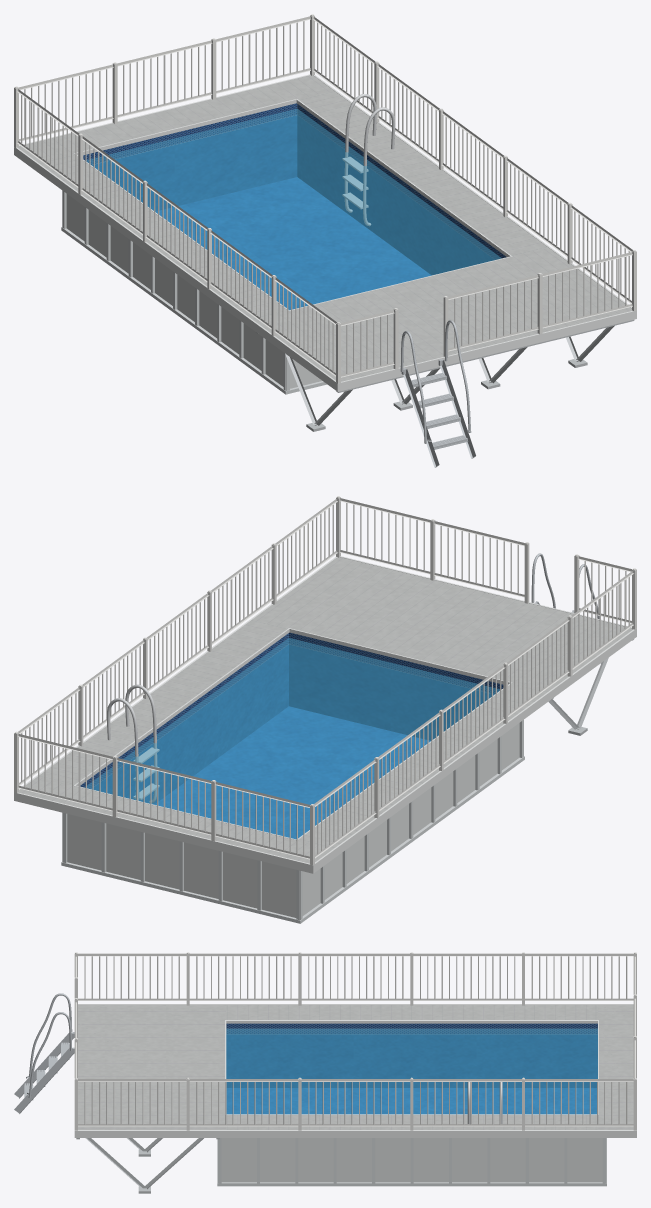
File: kayak-pool-12x20-white-end-ag-fence.07ea84ad62.glb
3 renders of one model, top to bottom at view 1: azimuth 30°, elevation 25°; view 2: azimuth 150°, elevation 25°; view 3: azimuth 270°, elevation 25°, orthographic. The views are drawn at different scales.
Visible parts, largest first — view 1: water, deck, fence, liner_wall, liner_floor, fascia, wall, upright, ladder, stud, steel; view 2: deck, water, fence, liner_wall, wall, liner_floor, fascia, upright, steel, stud; view 3: deck, water, liner_wall, fence, wall, liner_floor, fascia, upright, ladder, stud.
Part boxes in pixels (box(x1,y1,x2,y2)): water: box(86, 109, 501, 309); deck: box(18, 75, 632, 381); fence: box(14, 14, 636, 383); liner_wall: box(83, 103, 506, 275); liner_floor: box(156, 177, 431, 309); fascia: box(14, 74, 636, 391); wall: box(66, 194, 322, 388); upright: box(61, 190, 327, 394); ladder: box(400, 320, 475, 467); stud: box(255, 320, 634, 431); steel: box(342, 93, 395, 226); deck: box(18, 557, 632, 863); water: box(84, 638, 499, 838); fence: box(14, 496, 636, 865); liner_wall: box(80, 632, 503, 804); wall: box(67, 723, 519, 917); liner_floor: box(155, 706, 430, 838); fascia: box(14, 556, 636, 873); upright: box(61, 720, 524, 923); steel: box(106, 684, 159, 802); stud: box(548, 639, 633, 735); deck: box(78, 1005, 633, 1129); water: box(226, 1028, 597, 1114); liner_wall: box(226, 1023, 597, 1087); fence: box(74, 952, 636, 1130); wall: box(221, 1138, 602, 1182); liner_floor: box(226, 1088, 596, 1114); fascia: box(74, 1004, 636, 1137); upright: box(217, 1138, 606, 1186); ladder: box(14, 993, 74, 1113); stud: box(76, 1138, 219, 1193).
Size of the model in its own units: 4.88 by 2.15 by 10.13.
Materials: 11 (3 with a texture image).
